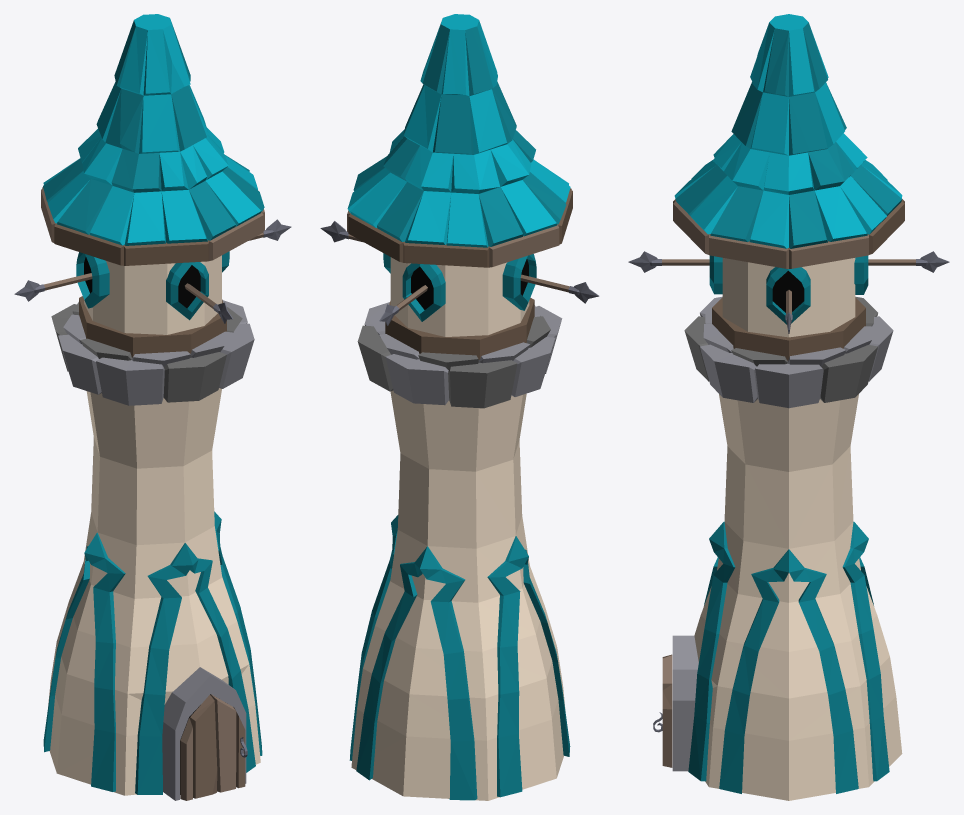
File: Archer_Tower_lv1.gltf
3 renders of one model, left to right at view 1: azimuth 30°, elevation 25°; view 2: azimuth 150°, elevation 25°; view 3: azimuth 270°, elevation 25°, orthographic.
Parts seen in each view (by area): view 1: Archer_Tower_LVL_1; view 2: Archer_Tower_LVL_1; view 3: Archer_Tower_LVL_1.
Part boxes in pixels (bbox=[...]): Archer_Tower_LVL_1: bbox=[14, 14, 291, 800]; Archer_Tower_LVL_1: bbox=[320, 14, 599, 800]; Archer_Tower_LVL_1: bbox=[628, 14, 949, 800].
Bounding box in the file's own units: 2.98 × 7.47 × 2.98.
Materials: 1 (1 with a texture image).
